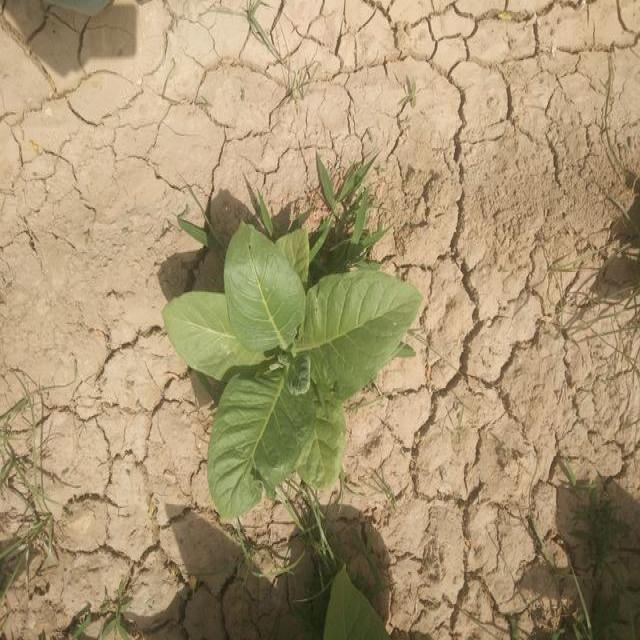crop: (175, 234, 418, 509), (324, 557, 385, 640)
